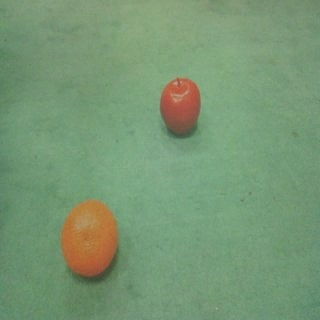apple: (152, 72, 208, 141)
orange: (57, 197, 122, 282)
